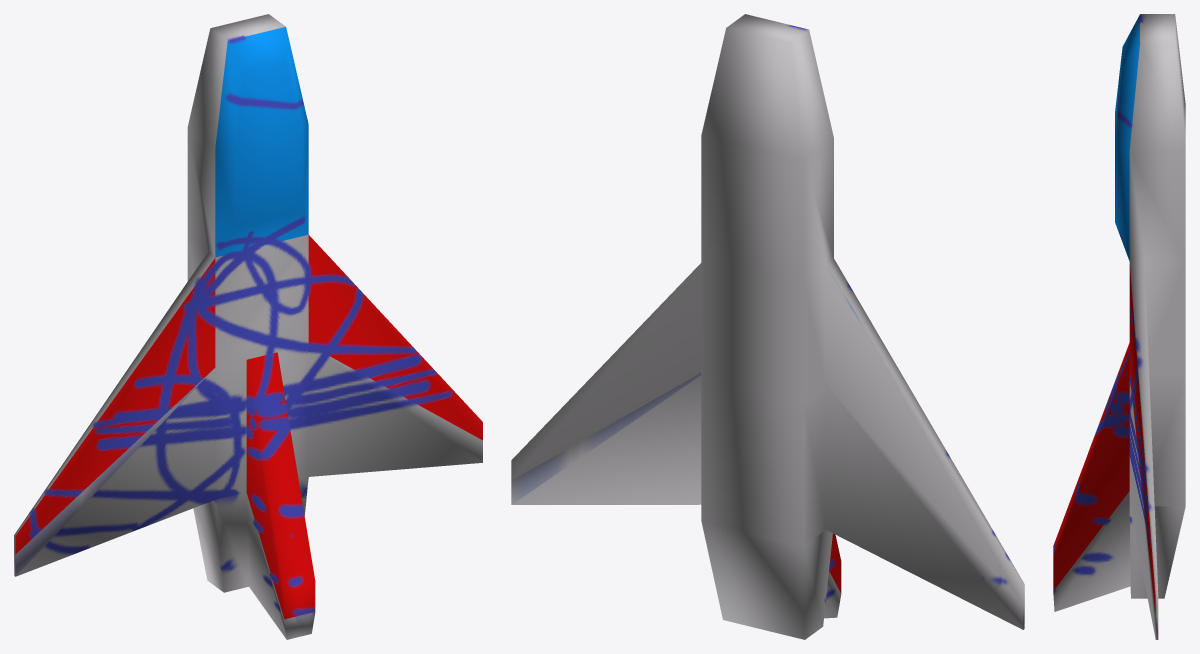
File: Ship.fbx
3 renders of one model, left to right at view 1: azimuth 30°, elevation 25°; view 2: azimuth 150°, elevation 25°; view 3: azimuth 270°, elevation 25°, orthographic. The views are drawn at different scales.
Parts seen in each view (by area): view 1: node_id4; view 2: node_id4; view 3: node_id4.
Part boxes in pixels (<box>): node_id4: <box>14,14,482,639</box>; node_id4: <box>511,14,1024,639</box>; node_id4: <box>1053,14,1185,639</box>.
Size of the model in its own units: 0.4378 by 0.512 by 0.1064.
Materials: 1 (1 with a texture image).
